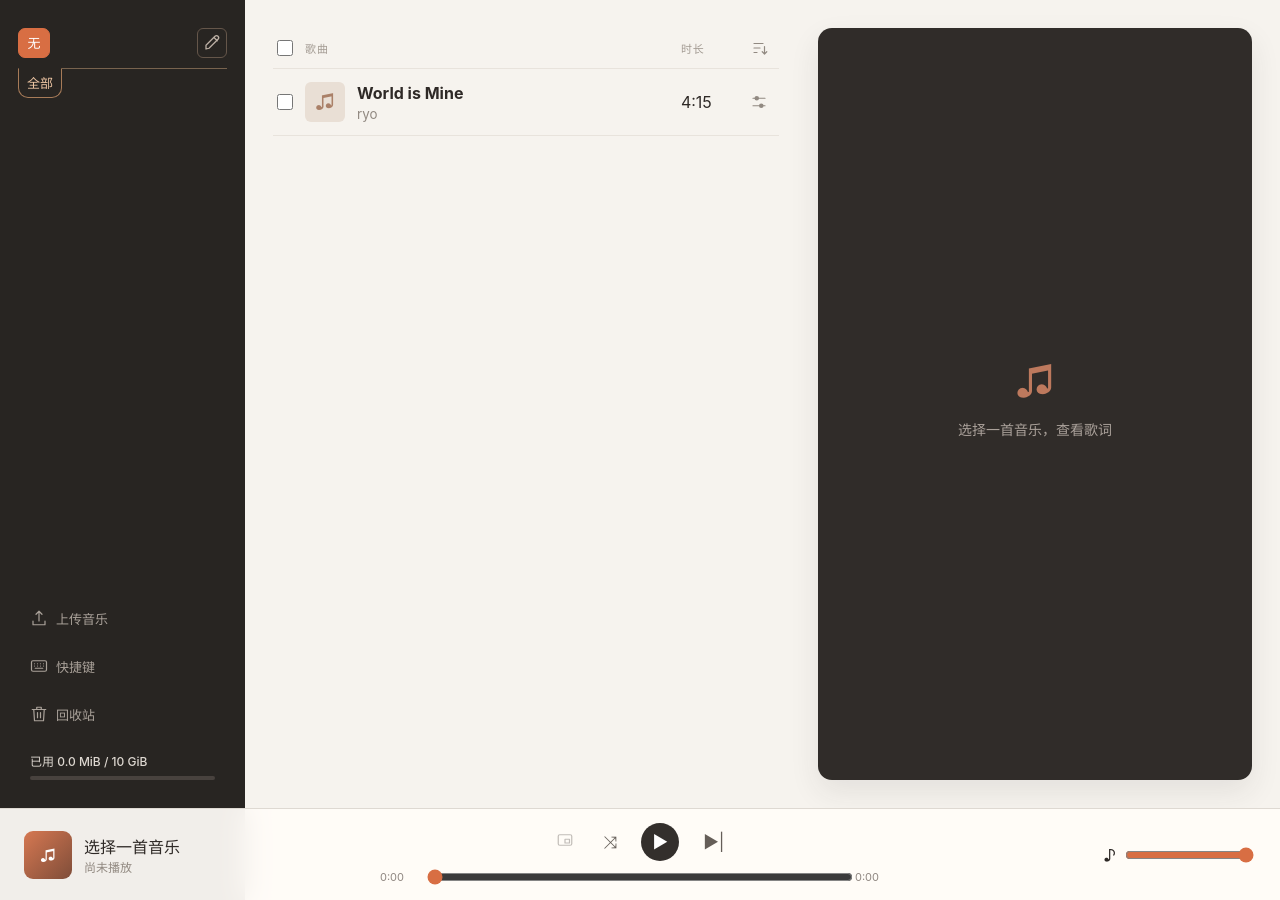
Scenario: music library lifecycle › keeps selected songs and the dialog open when creating a tag in the default all-tags view
Later steps or results of the test are not shown.
Click the checkbox named "选择 World is Mine" at (285, 102), box [277,94,293,110]
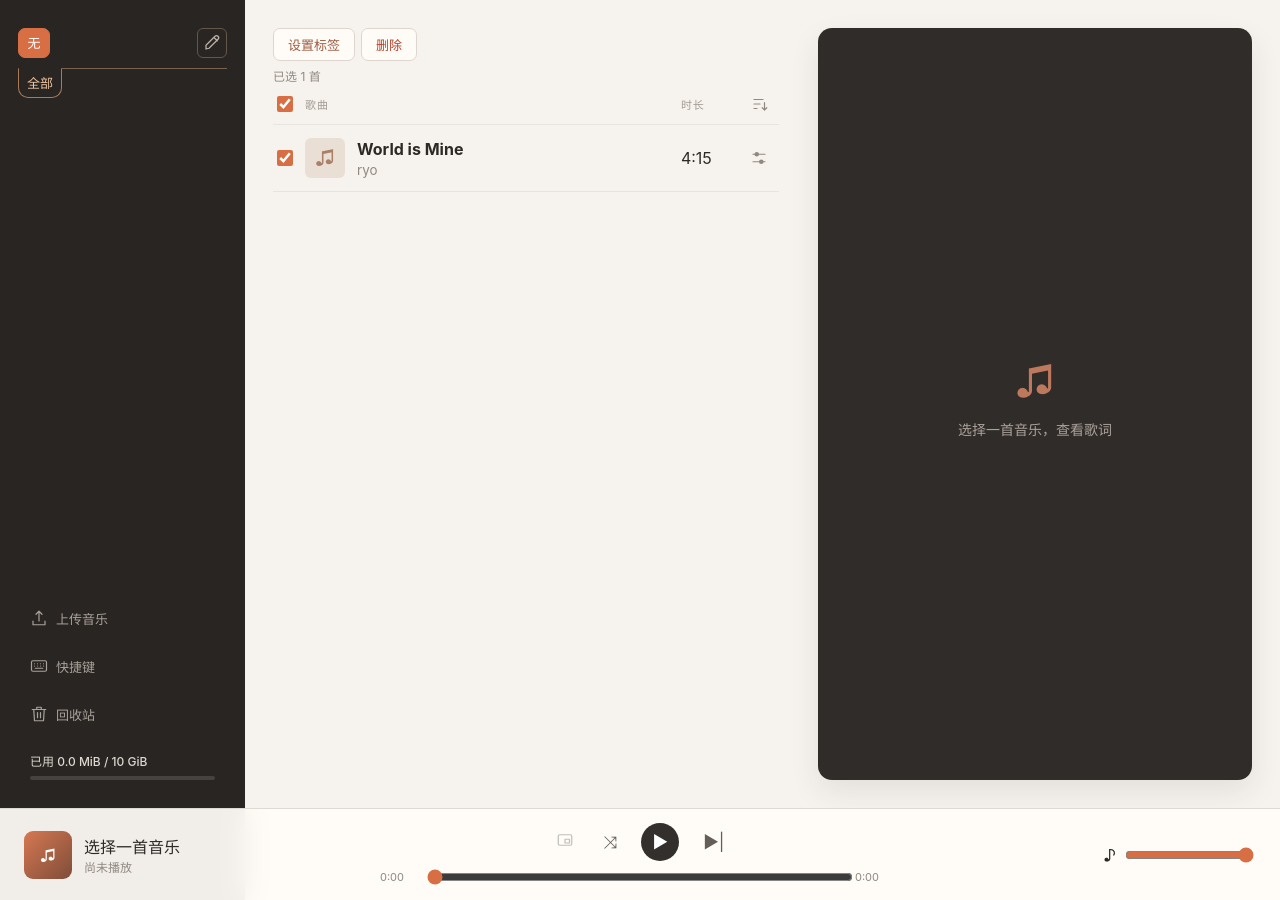
Click the button "设置标签" at (314, 44), box [273,28,355,61]
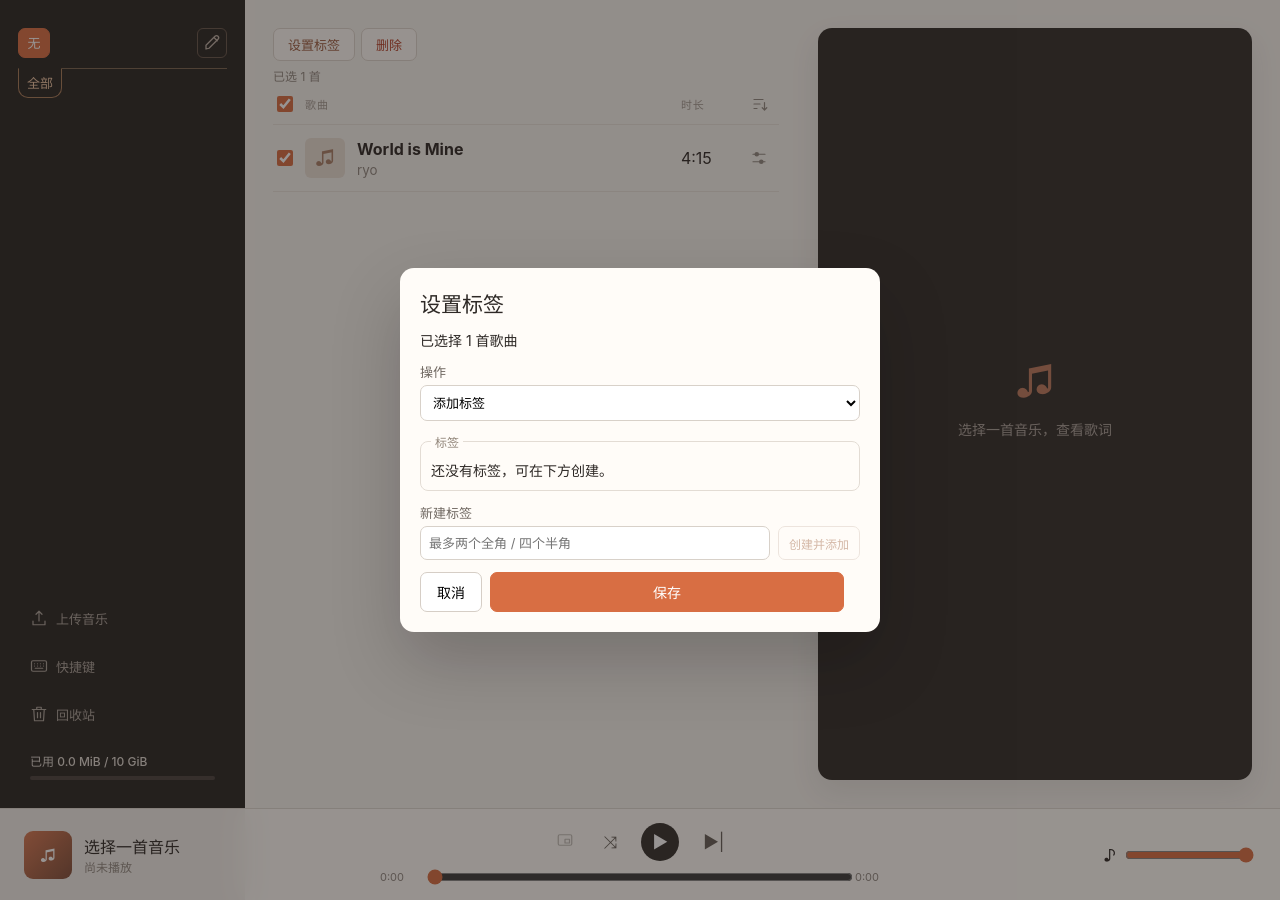
Type "新" into the field labelled "新建标签" at (595, 543), box [420,526,770,560]
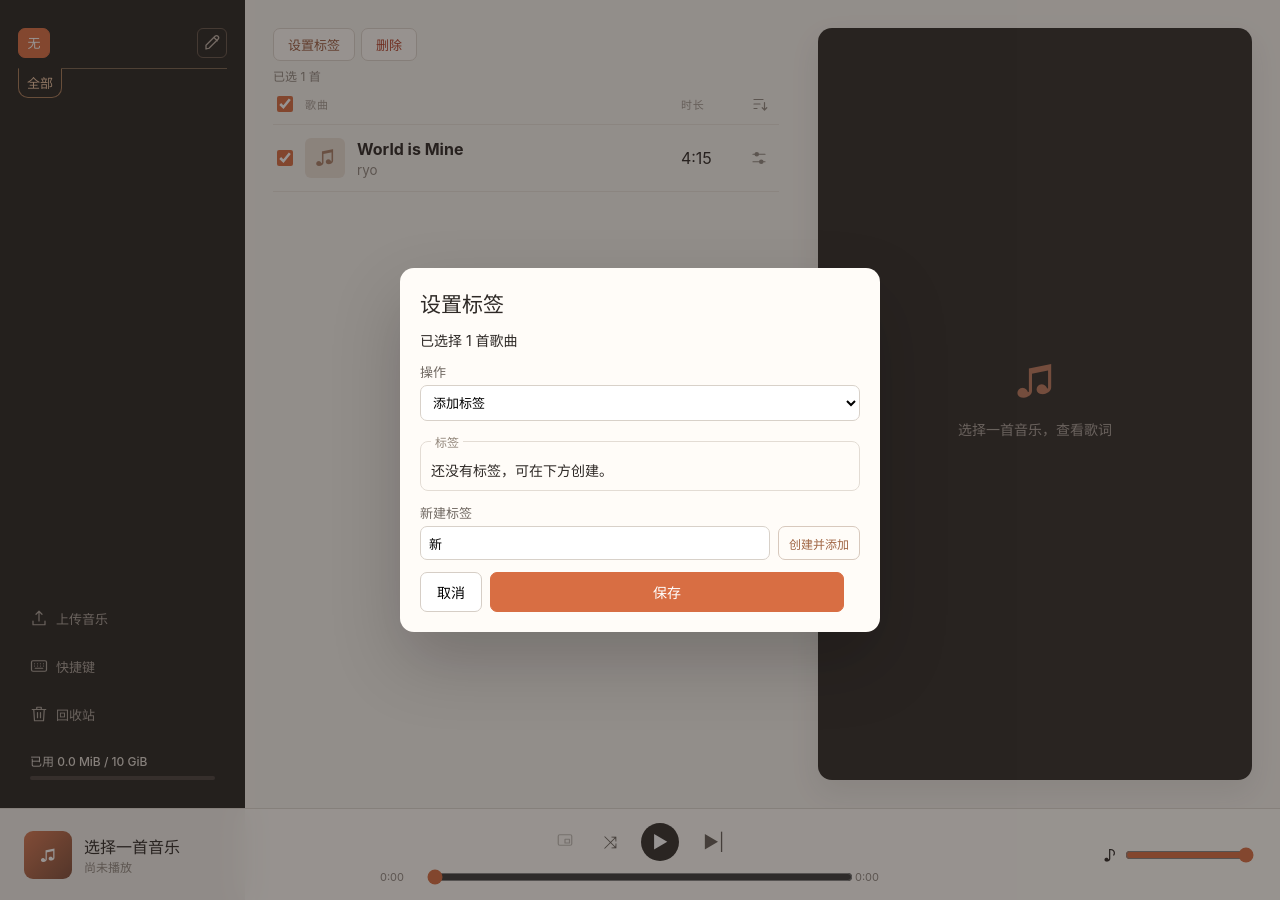
Click the button "创建并添加" at (819, 543), box [778,526,860,560]
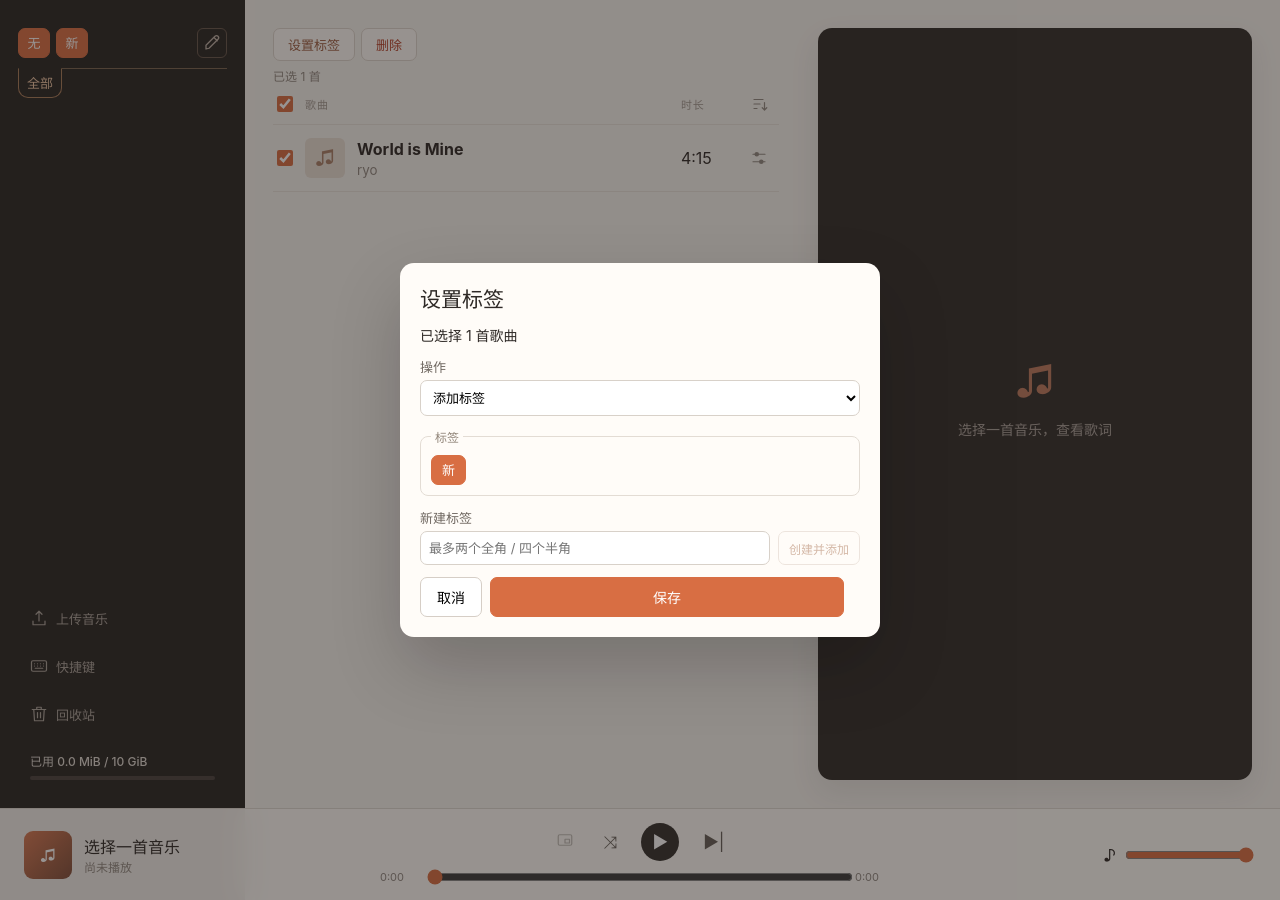
Check: the text "已选择 1 首歌曲" is shown, box [420,327,518,344]
